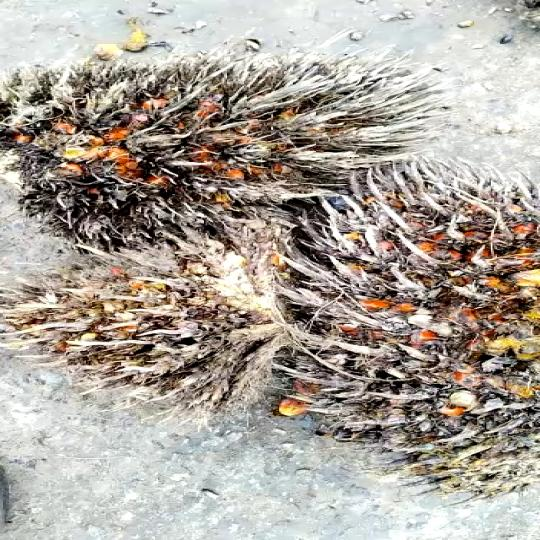terlalu masak: (0, 56, 452, 258), (277, 185, 540, 500), (0, 219, 301, 420)
